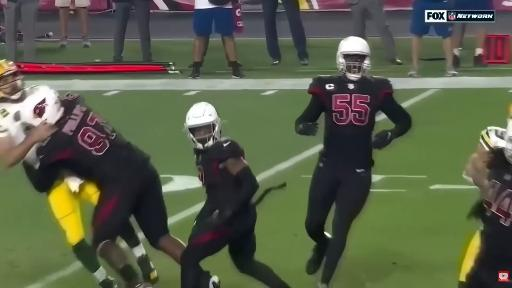Helmet: (21, 86, 63, 126), (185, 102, 220, 149), (337, 37, 370, 80), (0, 60, 24, 99), (504, 104, 511, 162)
Jersey: (37, 93, 150, 187), (308, 76, 402, 168), (195, 138, 244, 209), (482, 164, 511, 264), (0, 86, 48, 145), (0, 101, 30, 145), (480, 127, 506, 150)
Player: (21, 91, 184, 287), (296, 37, 411, 286), (0, 61, 115, 287), (181, 102, 289, 287), (463, 107, 511, 287), (463, 127, 506, 198)
